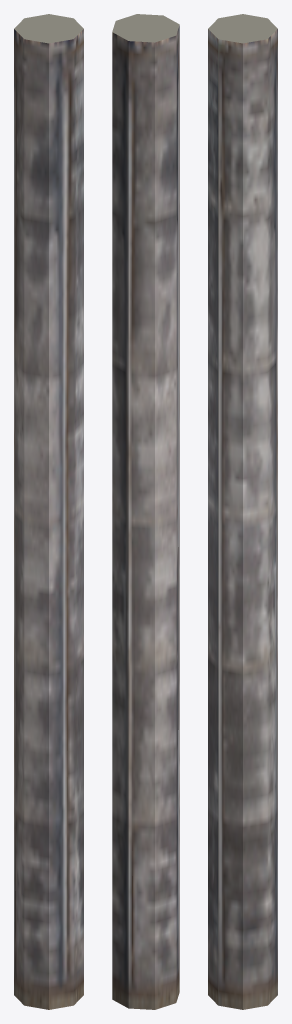
Rendered from leadpipe84_wtf.obj.
3 views of the same model, side by side, from view 1: azimuth 90°, elevation 25°; view 2: azimuth 150°, elevation 25°; view 3: azimuth 270°, elevation 25° (orthographic).
Parts seen in each view (by area): view 1: group2; view 2: group2; view 3: group2.
Boxes of the visible parts, x1,y1,x2,y2 form: group2: (14, 14, 83, 1009); group2: (112, 14, 179, 1009); group2: (208, 14, 277, 1009).
Bounding box in the file's own units: 43.26 × 660 × 43.26.
